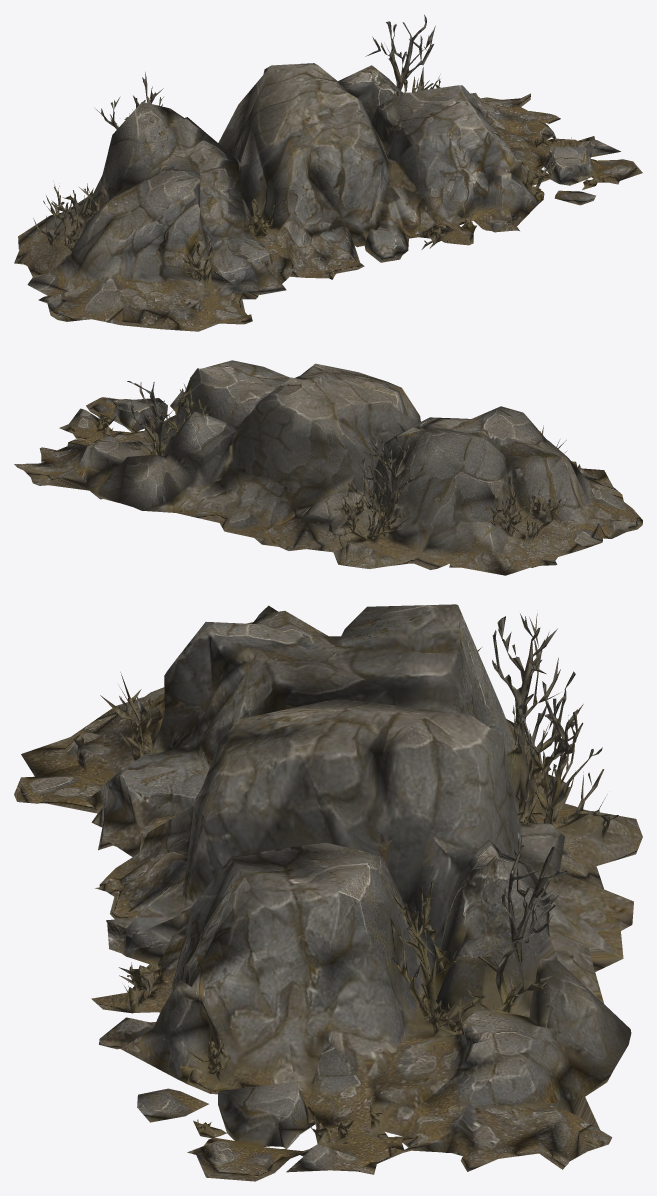
File: rock_outcrop.glb
3 renders of one model, top to bottom at view 1: azimuth 30°, elevation 25°; view 2: azimuth 150°, elevation 25°; view 3: azimuth 270°, elevation 25°, orthographic. The views are drawn at different scales.
Visible parts, largest first — view 1: rock_outcrop; view 2: rock_outcrop; view 3: rock_outcrop.
Boxes of the visible parts, x1,y1,x2,y2 form: rock_outcrop: (14, 14, 642, 331); rock_outcrop: (14, 360, 642, 575); rock_outcrop: (14, 604, 642, 1181).
Bounding box in the file's own units: 183 × 38.2 × 96.77.
1 material, 1 textured.
